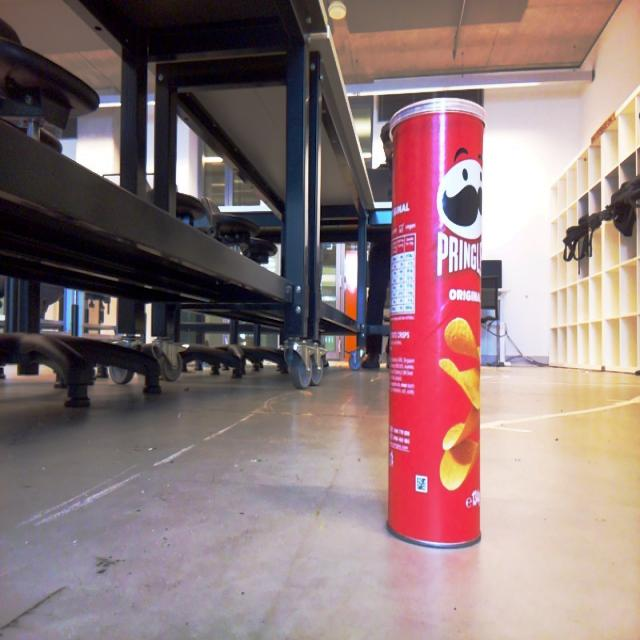redpringles: (378, 92, 491, 552)
